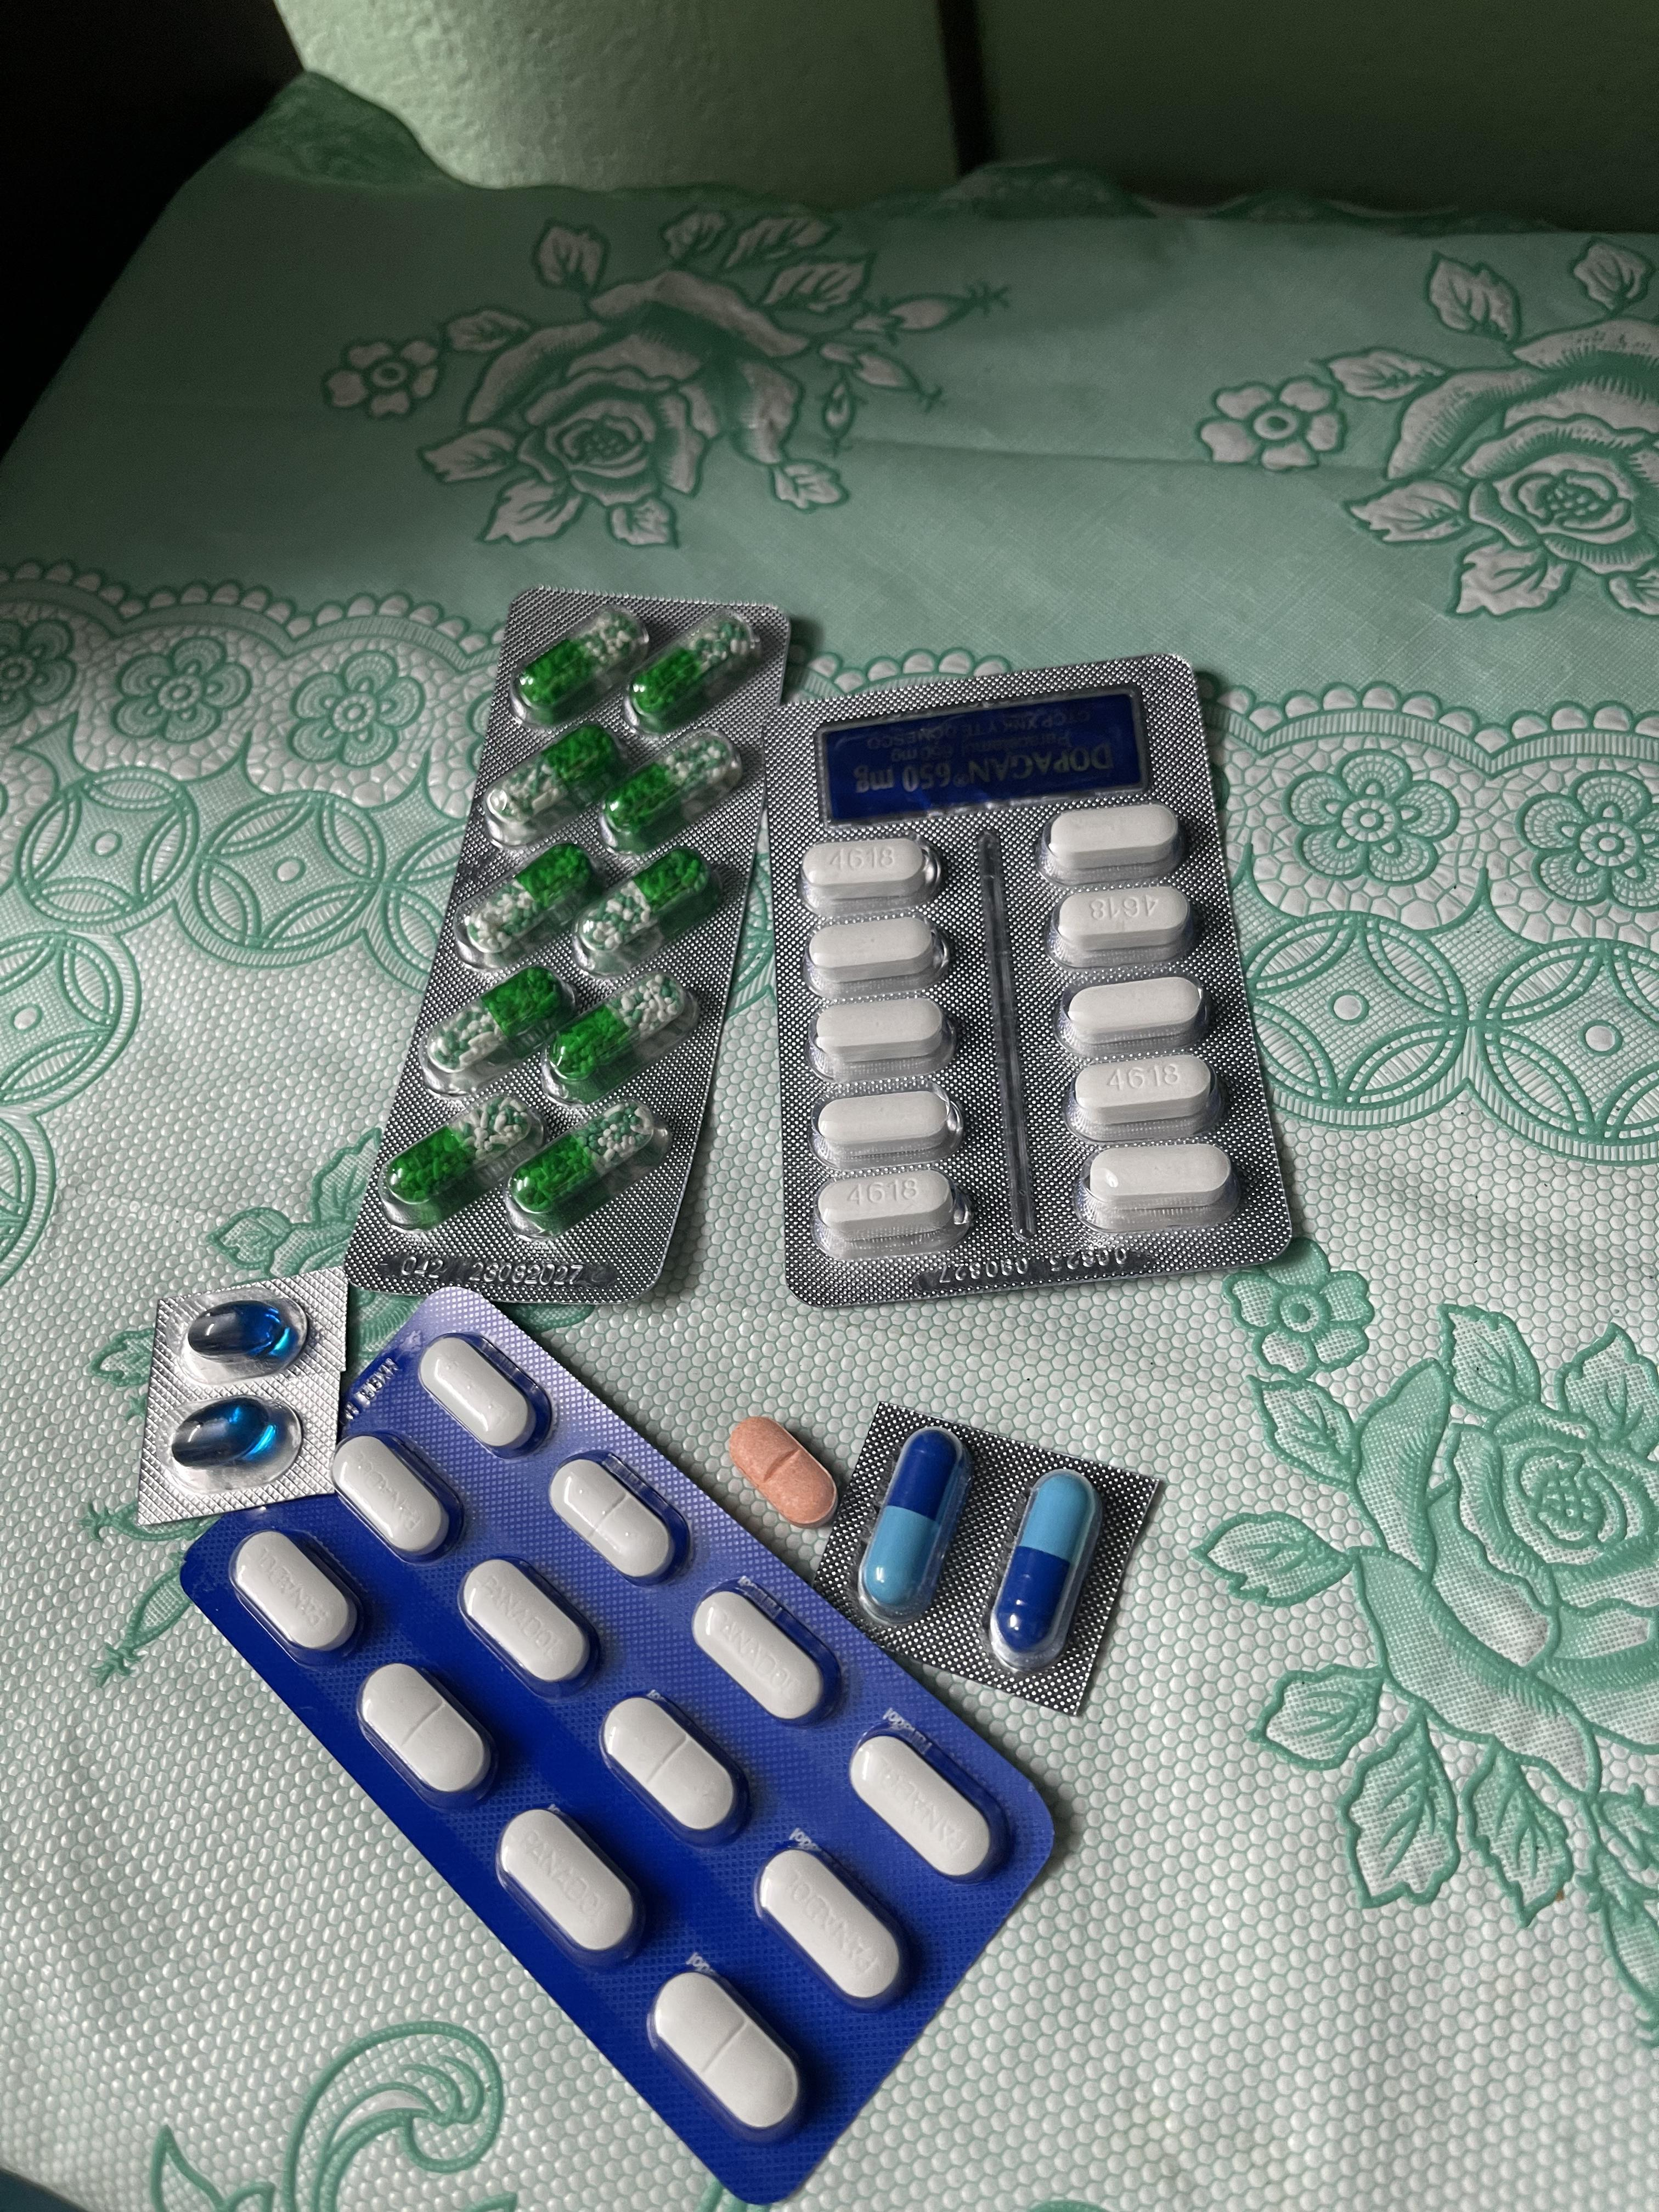Lincomyxin_500mg: (171, 1400, 282, 1468), (186, 1303, 296, 1364)
Loratadine_10mg: (728, 1416, 838, 1527)
Paracetamol_350mg: (650, 1963, 810, 2146), (852, 1716, 1014, 1886), (756, 1844, 911, 2012), (497, 1804, 645, 1972), (690, 1581, 843, 1731), (601, 1693, 748, 1850), (357, 1662, 491, 1808), (460, 1557, 596, 1698), (549, 1454, 688, 1587), (230, 1527, 364, 1663), (329, 1430, 455, 1559), (418, 1334, 542, 1453)
Paracetamol_500mg: (1080, 1141, 1230, 1235), (816, 1163, 960, 1258), (1070, 1050, 1215, 1141), (812, 993, 955, 1078), (1061, 977, 1204, 1062), (1051, 883, 1192, 967), (1040, 803, 1183, 885), (816, 1090, 957, 1170), (805, 913, 939, 995), (800, 834, 936, 914)
Paracetamol_650mg: (387, 1090, 552, 1228), (509, 1099, 673, 1237), (423, 968, 573, 1090), (544, 974, 690, 1092), (462, 841, 599, 960), (573, 853, 714, 968), (629, 611, 763, 730), (490, 725, 627, 836), (514, 608, 645, 725), (598, 744, 737, 852)
pill: (986, 1470, 1101, 1679), (856, 1426, 976, 1623)
